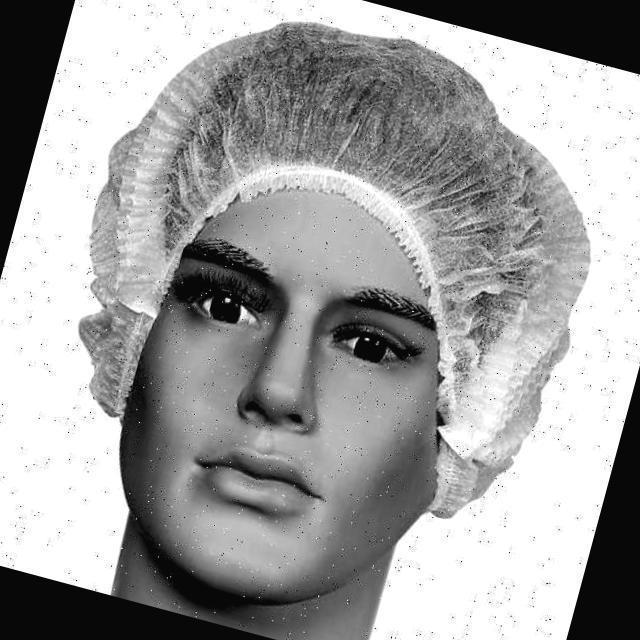gloves: (89, 1, 582, 312)
no_hairnet: (119, 358, 377, 594)
